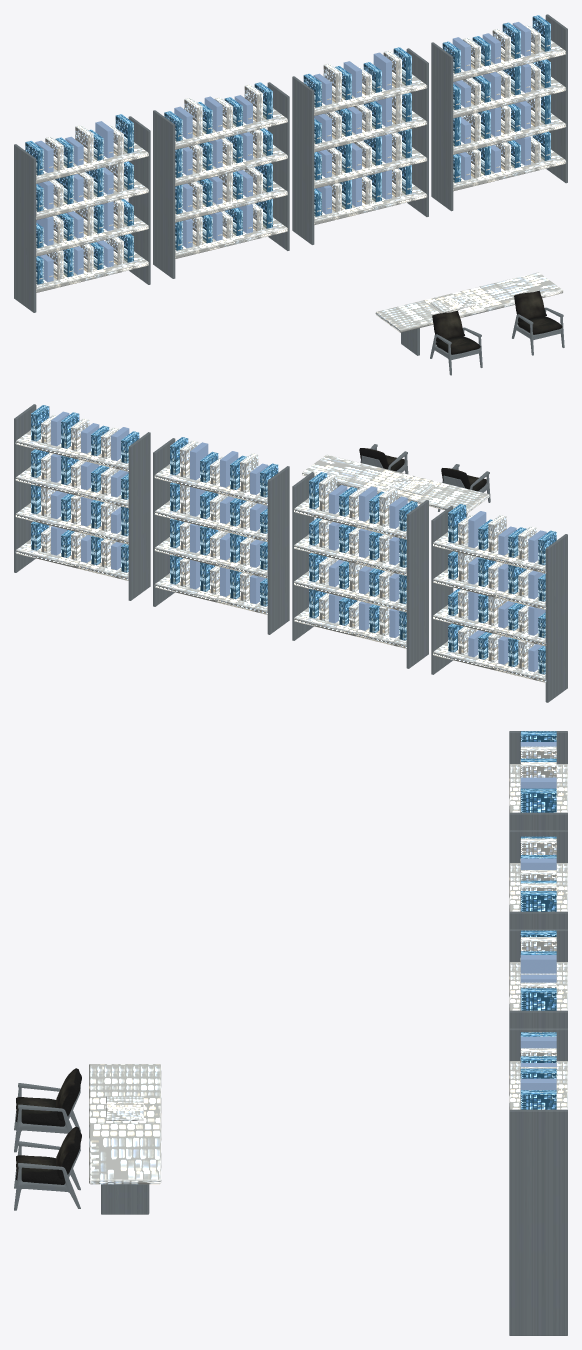
Rendered from resources.glb.
3 views of the same model, one above another, from view 1: azimuth 30°, elevation 25°; view 2: azimuth 150°, elevation 25°; view 3: azimuth 270°, elevation 25° (orthographic). The views are drawn at different scales.
Parts seen in each view (by area): view 1: Static_resources; view 2: Static_resources; view 3: Static_resources.
Boxes of the visible parts, bbox=[...] form: Static_resources: bbox=[14, 14, 567, 375]; Static_resources: bbox=[14, 404, 567, 702]; Static_resources: bbox=[14, 731, 567, 1335].
Size of the model in its own units: 13.06 by 3.79 by 8.04.
Materials: 6 (4 with a texture image).
